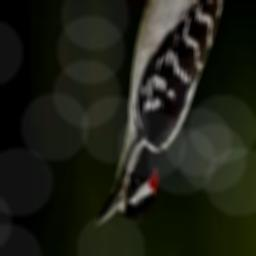Woodpecker: (96, 0, 243, 229)
